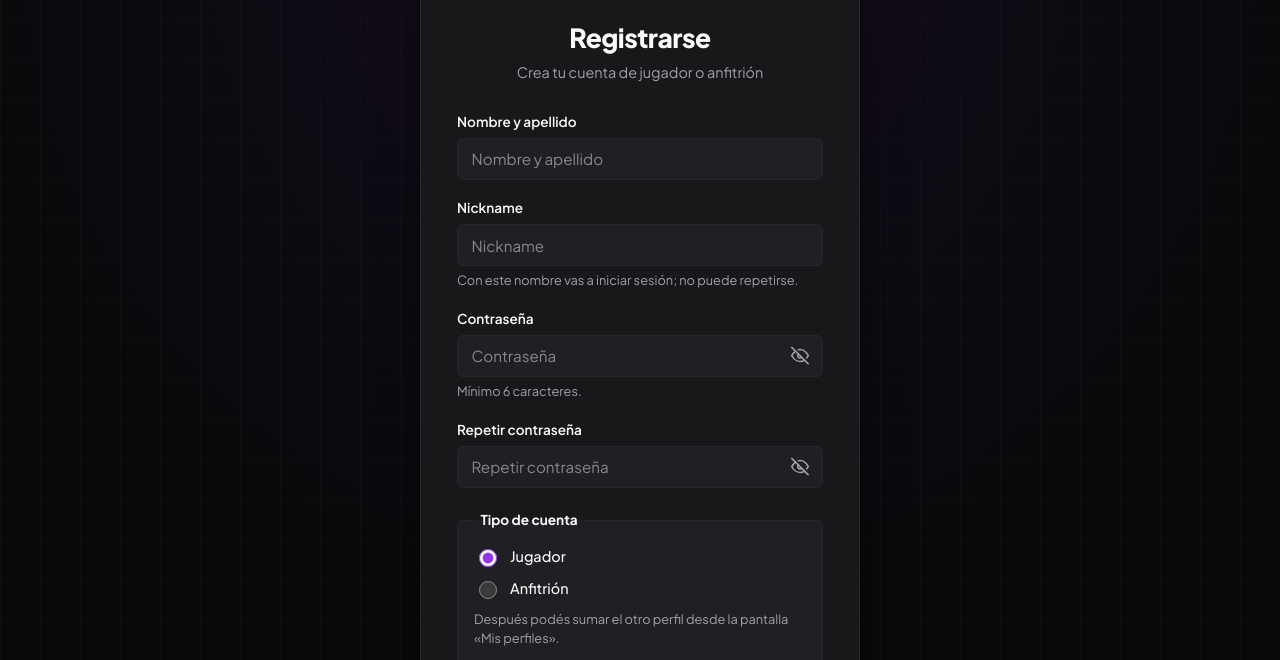
Test case: Registro de cuentas › exige una contraseña de al menos 6 caracteres
The image size is (1280, 660).
Type "Emanuel Salomón" into the field with placeholder "Nombre y apellido" at coordinates (640, 159), box [457,138,823,180]
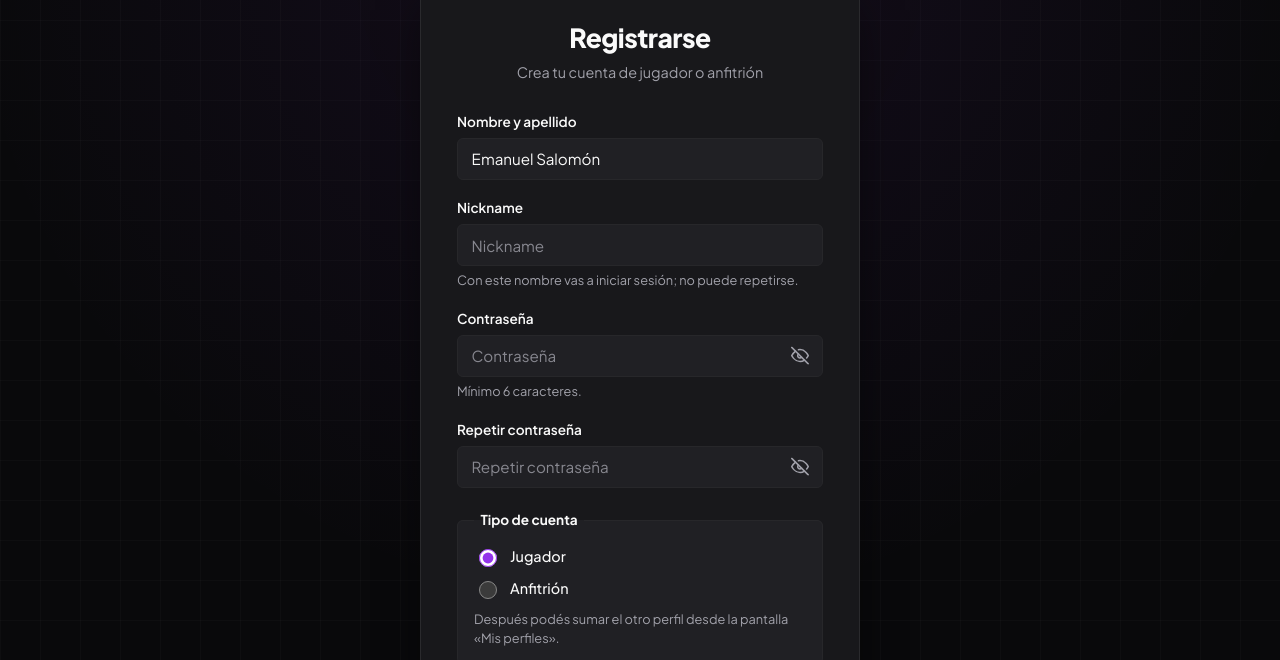
Type "emasalomon" into the field with placeholder "Nickname" at coordinates (640, 245), box [457,224,823,266]
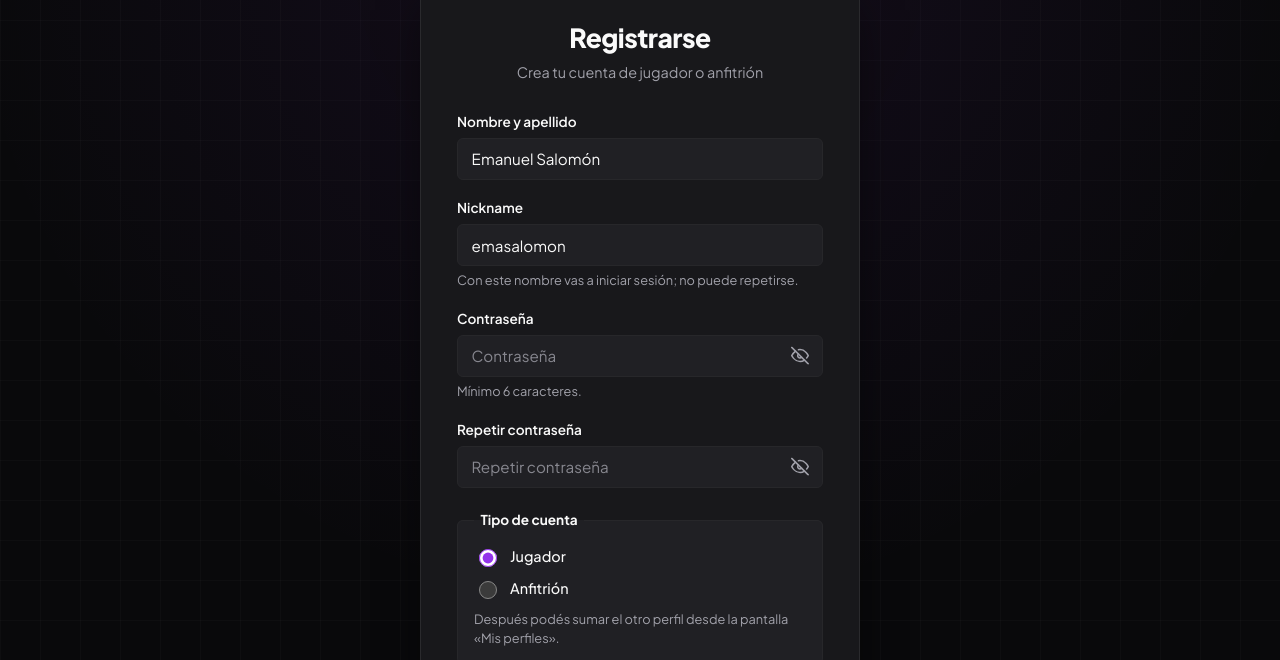
Type "123" into the password field with placeholder "Contraseña" at coordinates (640, 356), box [457,335,823,377]
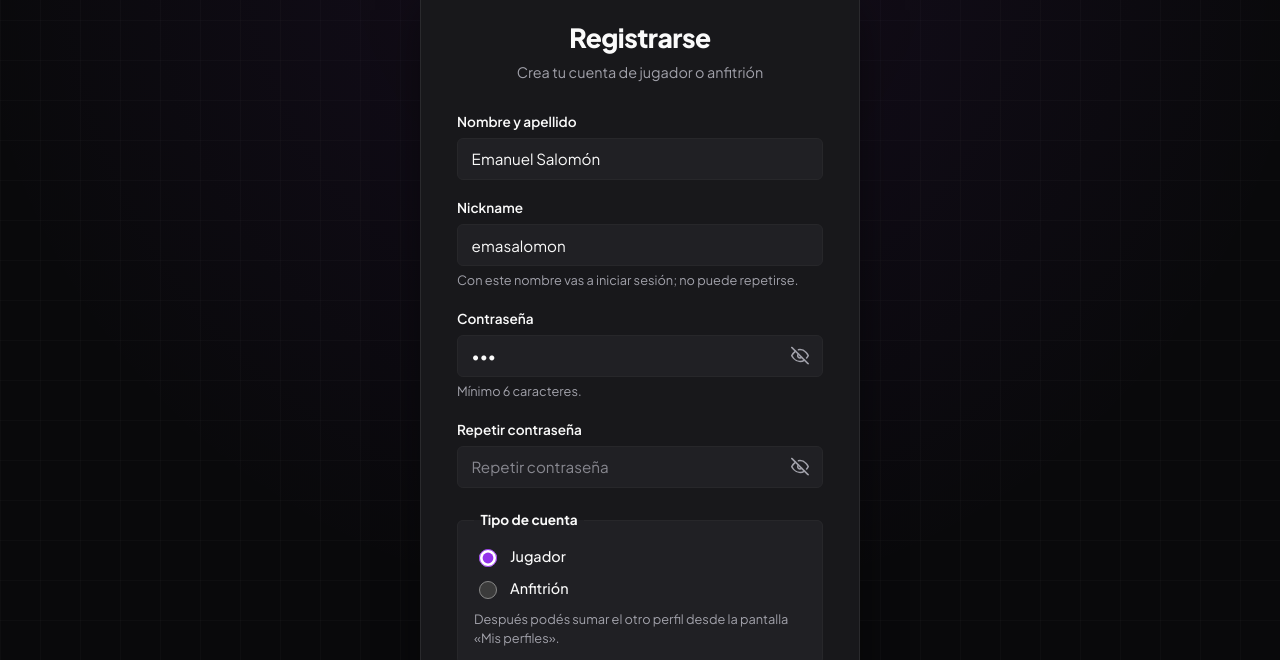
Type "123" into the password field with placeholder "Repetir contraseña" at coordinates (640, 467), box [457,446,823,488]
(page scrolled)
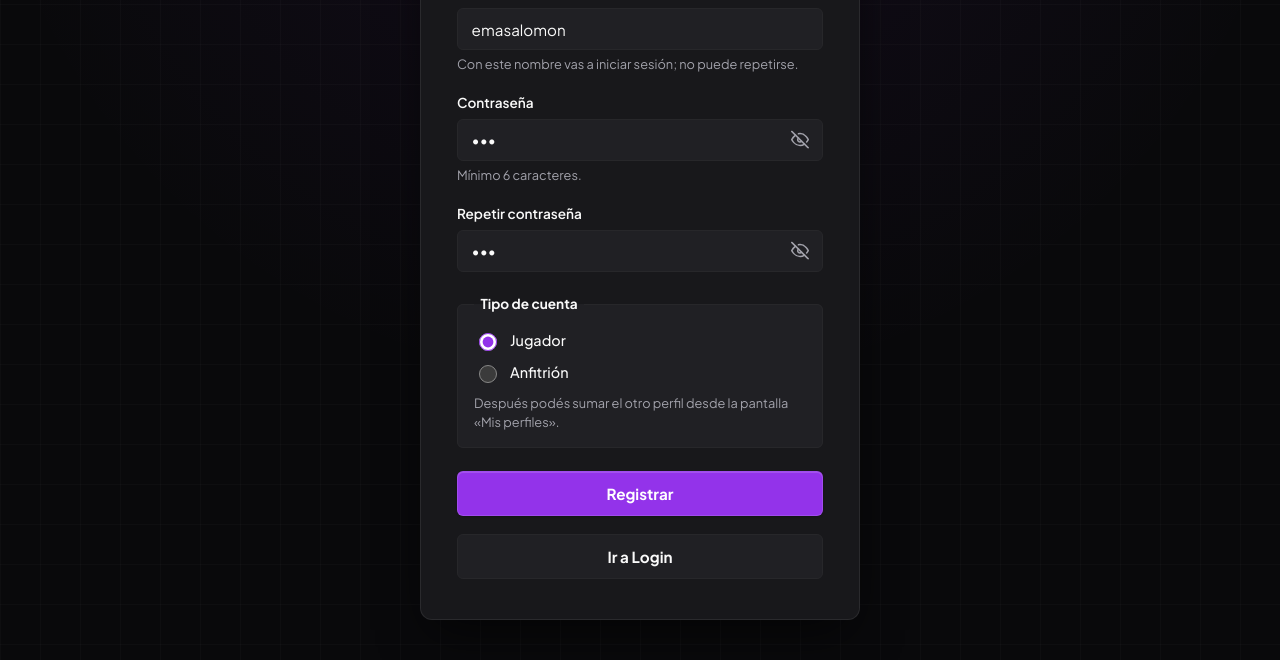
Click the button "Registrar" at coordinates (640, 493), box [457,471,823,516]
(page scrolled)
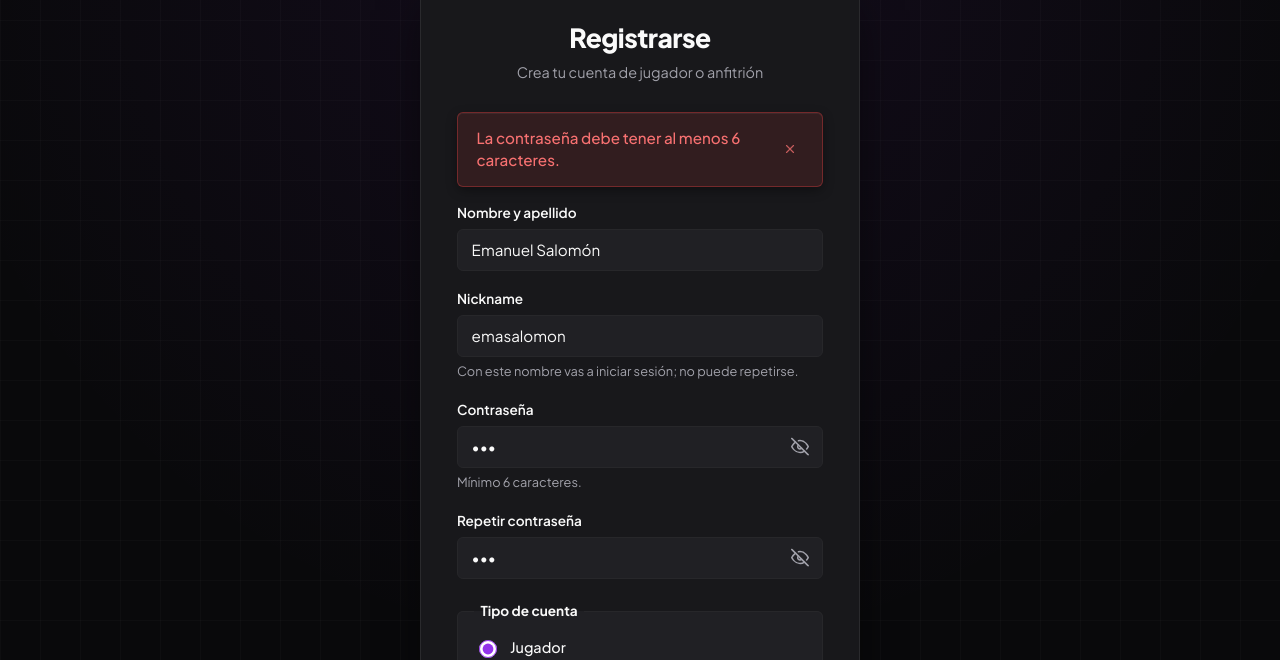
Now the text "La contraseña debe tener al menos 6 caracteres." is shown, box [476,127,761,172]
